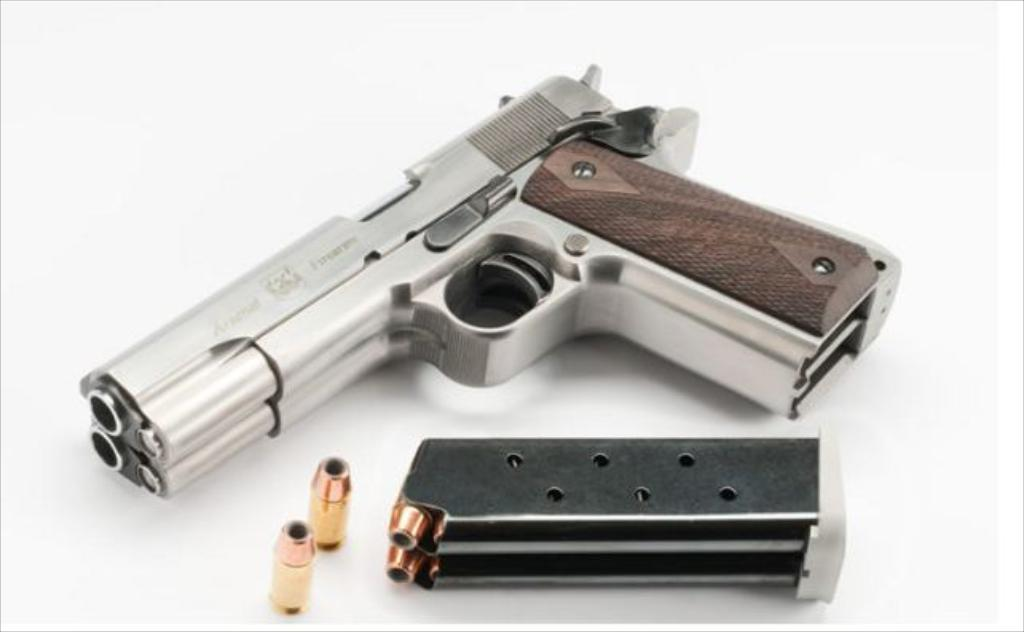Handgun: (78, 64, 904, 503)
